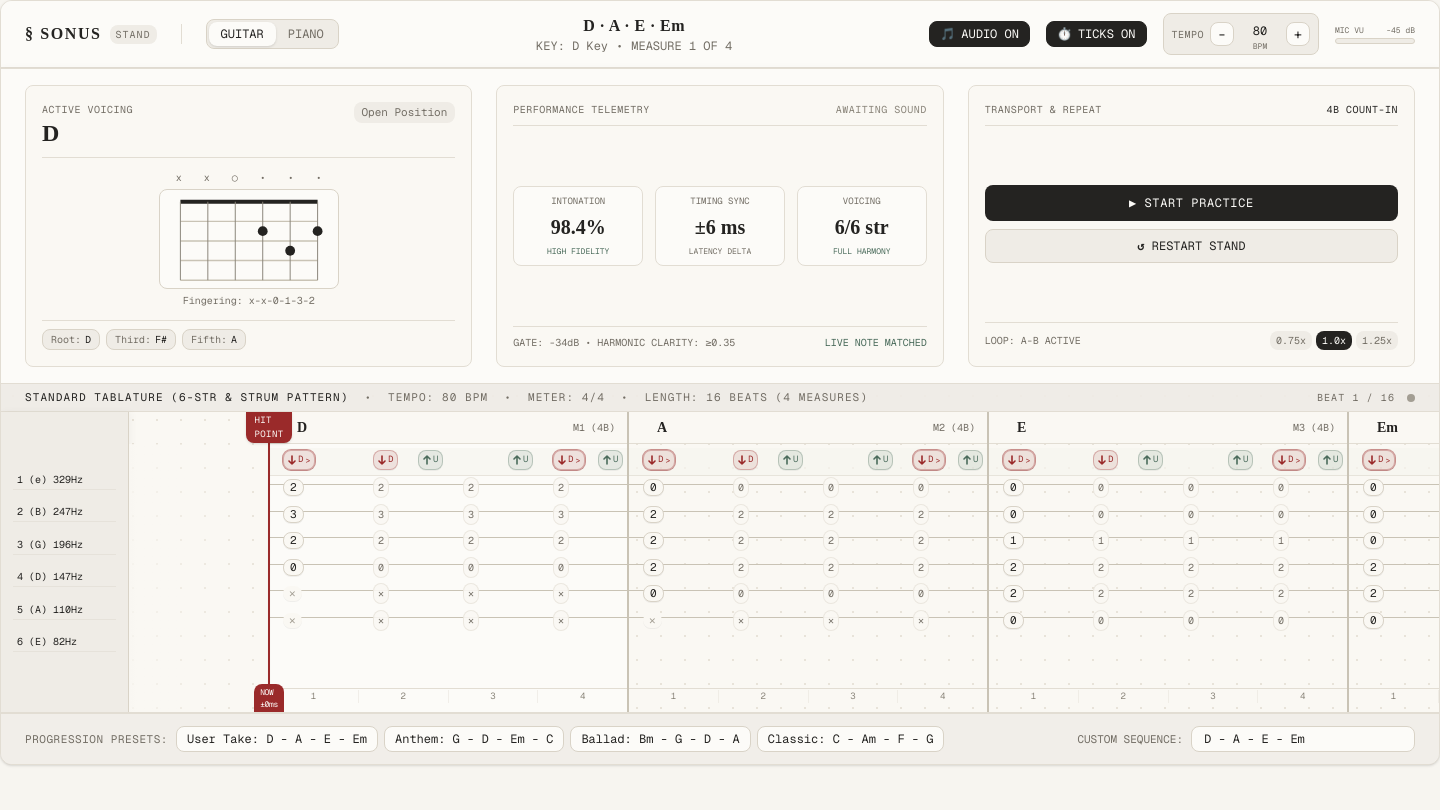
PracticeStandPage › allows custom chord progression entry and parses chords cleanly
Replace the text in the field with placeholder "Enter chords (e.g. D - A - E - Em)" with "D - A - Em - G" at (1303, 739), box [1191,726,1415,752]
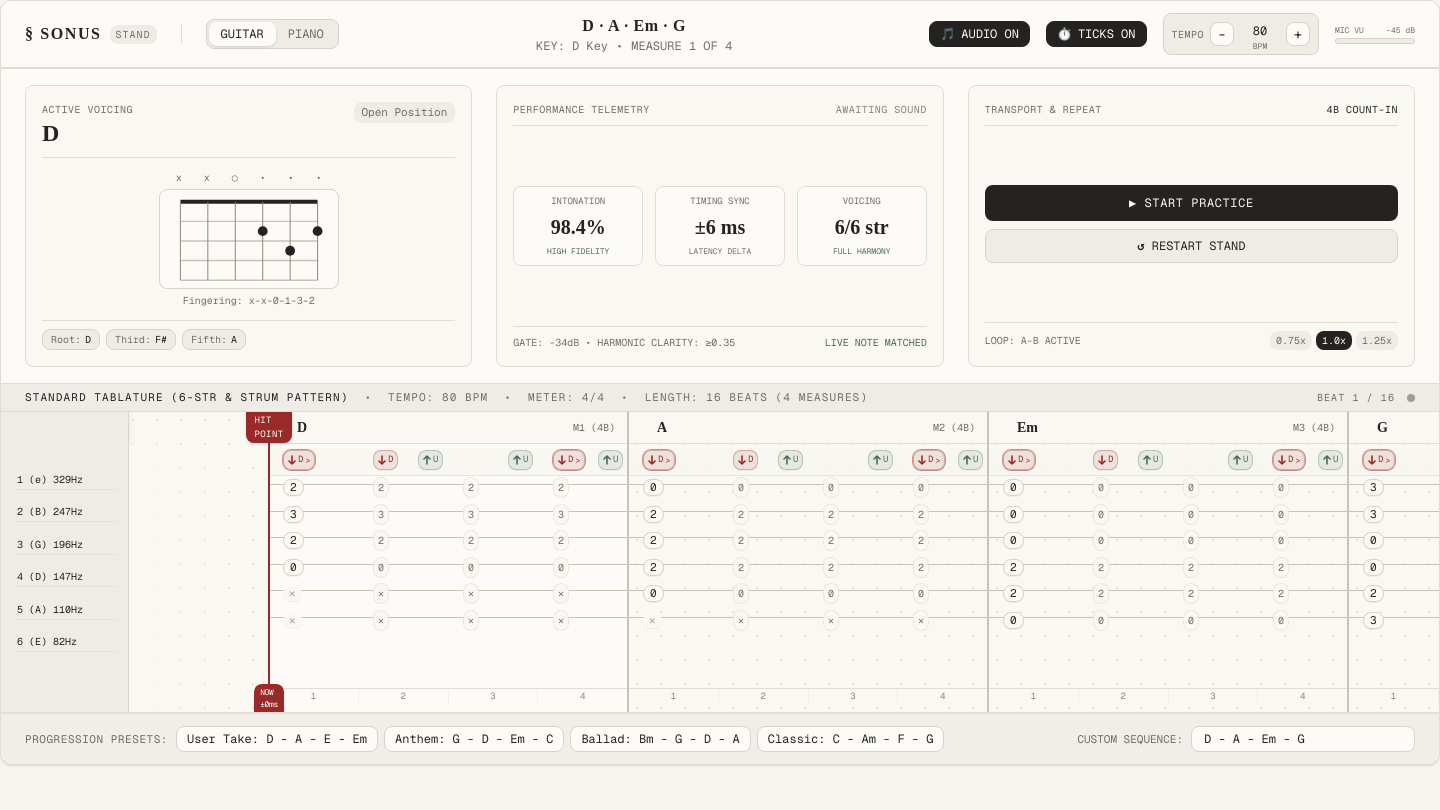
Expected: the heading "D · A · Em · G" is shown, [582,17,686,34]
